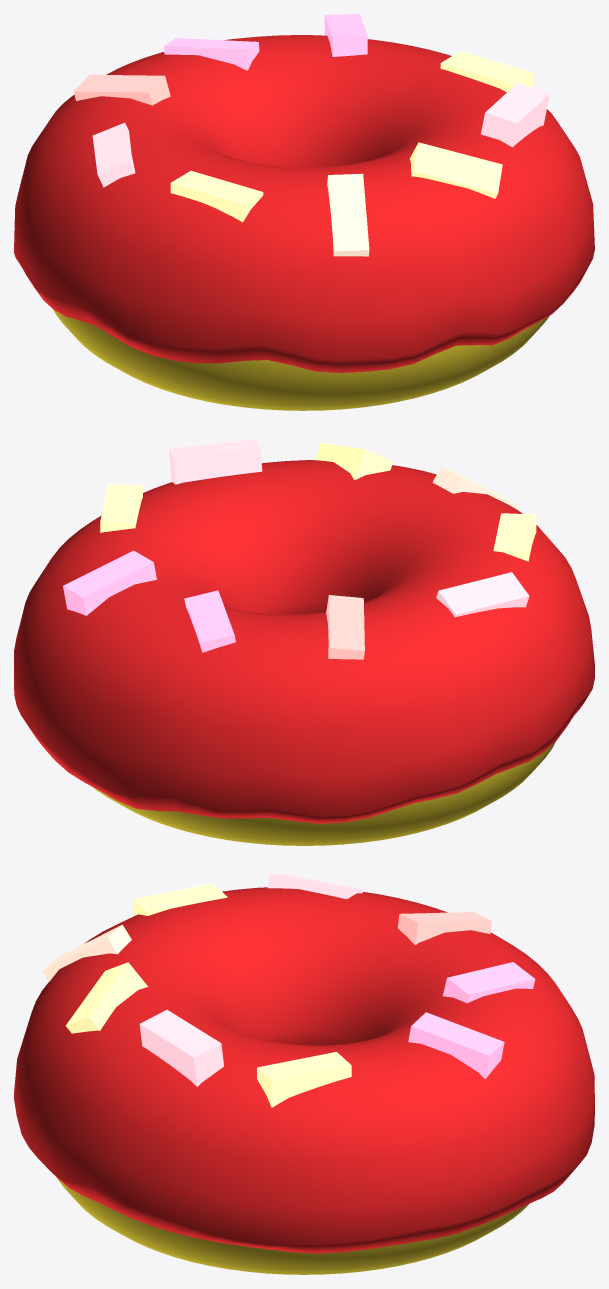
Rendered from donut.gltf.
The picture shows the model from 3 angles, top to bottom: view 1: azimuth 30°, elevation 25°; view 2: azimuth 150°, elevation 25°; view 3: azimuth 270°, elevation 25°; orthographic projection.
Parts seen in each view (by area): view 1: Torus.001_3, Torus_2, Cube.008, Cube.006, Cube.001, Cube.009, Cube.004, Cube.005, Cube.002, Cube.007, Cube.003; view 2: Torus.001_3, Torus_2, Cube.001, Cube.003, Cube.002, Cube.004, Cube.007, Cube.005, Cube.009, Cube.008, Cube.006; view 3: Torus.001_3, Torus_2, Cube.001, Cube.003, Cube.005, Cube.008, Cube.007, Cube.004, Cube.009, Cube.006, Cube.002.
Part boxes in pixels (bbox=[...]): Torus.001_3: bbox=[14, 35, 594, 372]; Torus_2: bbox=[53, 309, 549, 410]; Cube.008: bbox=[410, 142, 502, 198]; Cube.006: bbox=[327, 173, 369, 256]; Cube.001: bbox=[481, 82, 549, 147]; Cube.009: bbox=[170, 170, 263, 222]; Cube.004: bbox=[73, 74, 170, 105]; Cube.005: bbox=[440, 51, 532, 92]; Cube.002: bbox=[92, 122, 135, 187]; Cube.007: bbox=[164, 38, 259, 70]; Cube.003: bbox=[324, 14, 367, 56]; Torus.001_3: bbox=[14, 460, 594, 823]; Torus_2: bbox=[93, 741, 555, 845]; Cube.001: bbox=[169, 439, 262, 484]; Cube.003: bbox=[63, 550, 156, 615]; Cube.002: bbox=[436, 572, 529, 617]; Cube.004: bbox=[326, 595, 364, 659]; Cube.007: bbox=[184, 590, 235, 652]; Cube.005: bbox=[100, 484, 142, 532]; Cube.009: bbox=[493, 513, 536, 561]; Cube.008: bbox=[315, 442, 393, 480]; Cube.006: bbox=[432, 466, 520, 510]; Torus.001_3: bbox=[14, 887, 594, 1253]; Torus_2: bbox=[56, 1177, 528, 1274]; Cube.001: bbox=[139, 1009, 223, 1086]; Cube.003: bbox=[408, 1012, 504, 1079]; Cube.005: bbox=[257, 1052, 351, 1107]; Cube.008: bbox=[65, 962, 147, 1033]; Cube.007: bbox=[443, 962, 535, 1003]; Cube.004: bbox=[397, 912, 491, 945]; Cube.009: bbox=[133, 883, 227, 916]; Cube.006: bbox=[42, 924, 131, 981]; Cube.002: bbox=[267, 874, 363, 899].
Bounding box in the file's own units: 3.29 × 1.53 × 3.3.
